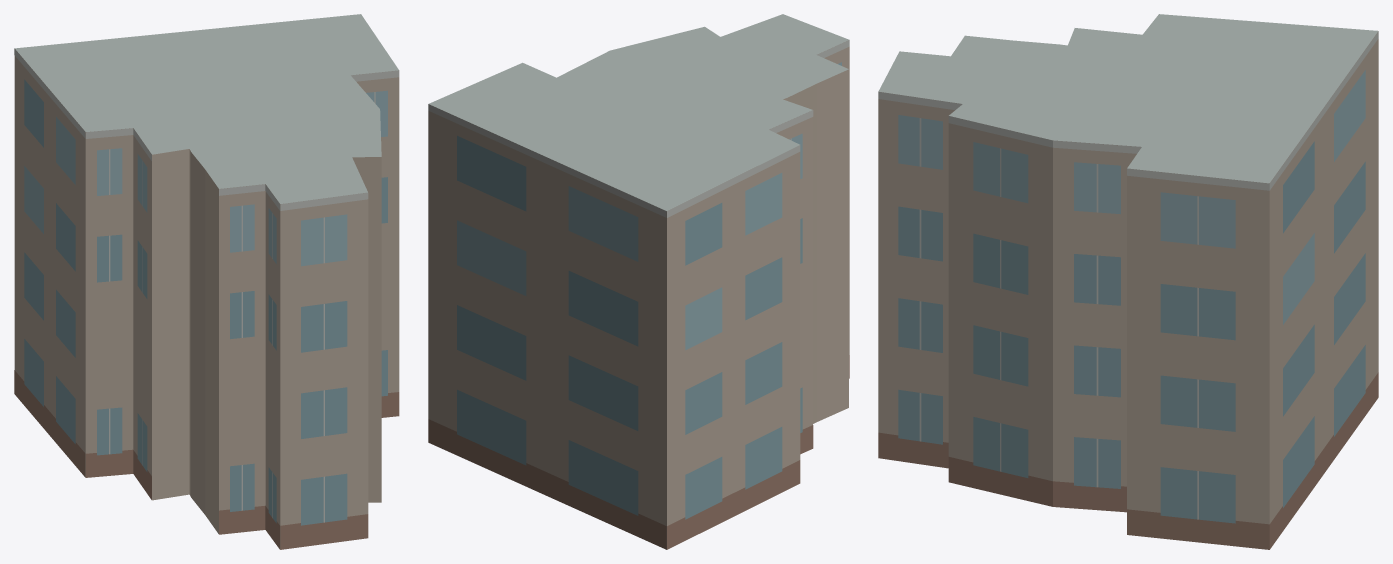
File: survey-upis-32648400.glb
3 views of the same model, side by side, from view 1: azimuth 30°, elevation 25°; view 2: azimuth 150°, elevation 25°; view 3: azimuth 270°, elevation 25° (orthographic). The views are drawn at different scales.
Parts seen in each view (by area): view 1: survey-upis-32648400.tmp; view 2: survey-upis-32648400.tmp; view 3: survey-upis-32648400.tmp.
Part boxes in pixels (x1=…): survey-upis-32648400.tmp: x1=14, y1=14, x2=399, y2=549; survey-upis-32648400.tmp: x1=428, y1=14, x2=849, y2=549; survey-upis-32648400.tmp: x1=878, y1=14, x2=1378, y2=549.
Bounding box in the file's own units: 12.11 × 12.2 × 15.11.
